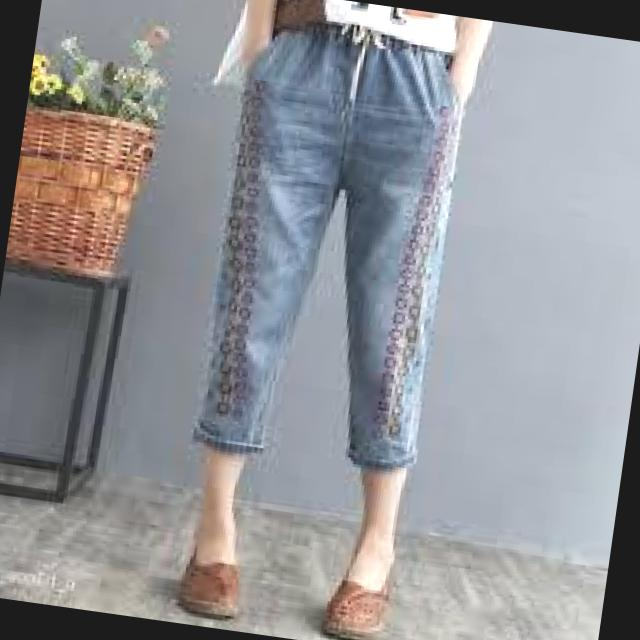pants: (159, 0, 489, 492)
